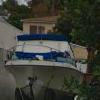Boat: (9, 29, 85, 94)
